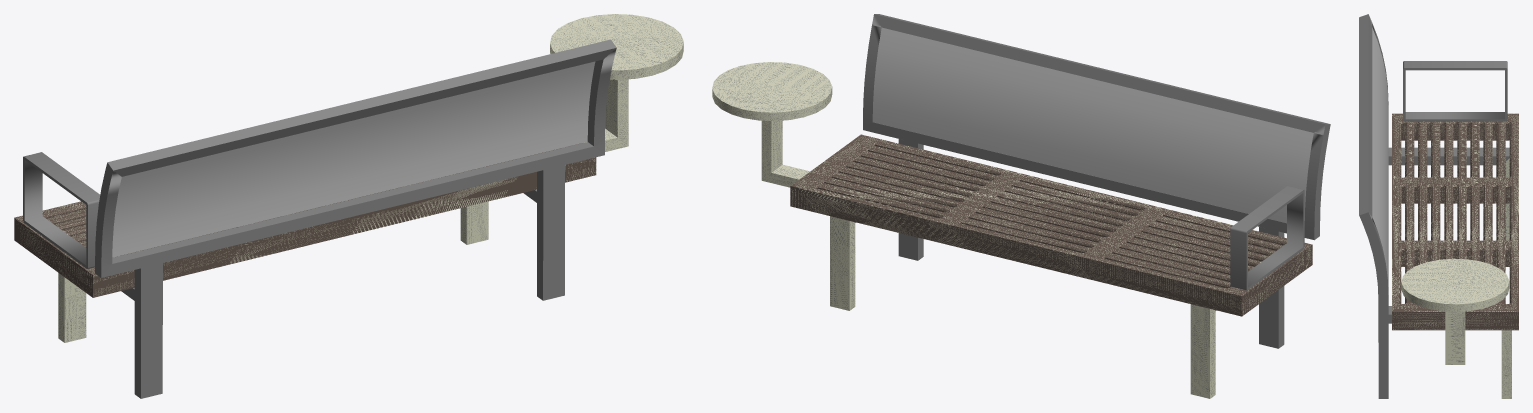
3 views of the same model, side by side, from view 1: azimuth 30°, elevation 25°; view 2: azimuth 150°, elevation 25°; view 3: azimuth 270°, elevation 25° (orthographic). The views are drawn at different scales.
Parts seen in each view (by area): view 1: mesh9_mesh9-geometry, mesh7_mesh7-geometry, mesh1_mesh1-geometry, mesh10_mesh10-geometry, mesh14_mesh14-geometry, mesh15_mesh15-geometry, mesh2_mesh2-geometry, mesh5_mesh5-geometry, mesh3_mesh3-geometry; view 2: mesh9_mesh9-geometry, mesh1_mesh1-geometry, mesh7_mesh7-geometry, mesh14_mesh14-geometry, mesh2_mesh2-geometry, mesh15_mesh15-geometry, mesh10_mesh10-geometry, mesh5_mesh5-geometry, mesh3_mesh3-geometry; view 3: mesh1_mesh1-geometry, mesh14_mesh14-geometry, mesh9_mesh9-geometry, mesh7_mesh7-geometry, mesh15_mesh15-geometry, mesh10_mesh10-geometry, mesh3_mesh3-geometry, mesh2_mesh2-geometry.
Boxes of the visible parts, bbox=[...] form: mesh9_mesh9-geometry: bbox=[112, 61, 595, 257]; mesh7_mesh7-geometry: bbox=[101, 39, 616, 277]; mesh1_mesh1-geometry: bbox=[14, 143, 596, 297]; mesh10_mesh10-geometry: bbox=[121, 165, 564, 398]; mesh14_mesh14-geometry: bbox=[550, 14, 683, 151]; mesh15_mesh15-geometry: bbox=[23, 152, 100, 268]; mesh2_mesh2-geometry: bbox=[58, 201, 488, 342]; mesh5_mesh5-geometry: bbox=[95, 162, 121, 277]; mesh3_mesh3-geometry: bbox=[587, 48, 616, 154]; mesh9_mesh9-geometry: bbox=[872, 27, 1313, 222]; mesh1_mesh1-geometry: bbox=[790, 134, 1312, 316]; mesh7_mesh7-geometry: bbox=[863, 14, 1330, 239]; mesh14_mesh14-geometry: bbox=[712, 62, 832, 187]; mesh2_mesh2-geometry: bbox=[830, 216, 1215, 398]; mesh15_mesh15-geometry: bbox=[1230, 186, 1304, 290]; mesh10_mesh10-geometry: bbox=[854, 139, 1284, 348]; mesh5_mesh5-geometry: bbox=[1304, 124, 1330, 239]; mesh3_mesh3-geometry: bbox=[863, 14, 881, 129]; mesh1_mesh1-geometry: bbox=[1392, 113, 1518, 330]; mesh14_mesh14-geometry: bbox=[1401, 258, 1509, 364]; mesh9_mesh9-geometry: bbox=[1372, 28, 1388, 294]; mesh7_mesh7-geometry: bbox=[1359, 14, 1372, 215]; mesh15_mesh15-geometry: bbox=[1403, 61, 1507, 121]; mesh10_mesh10-geometry: bbox=[1378, 147, 1509, 398]; mesh3_mesh3-geometry: bbox=[1359, 212, 1388, 309]; mesh2_mesh2-geometry: bbox=[1501, 158, 1511, 398].
Size of the model in its own units: 0.9034 by 0.3488 by 0.2494.
